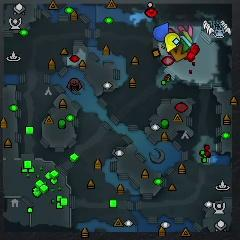p1: (154, 22, 169, 41)
p4: (165, 32, 180, 53)
x1: (177, 24, 193, 37)
x2: (182, 30, 192, 43)
x3: (179, 35, 192, 47)
x4: (179, 38, 189, 53)
x5: (170, 43, 187, 62)
